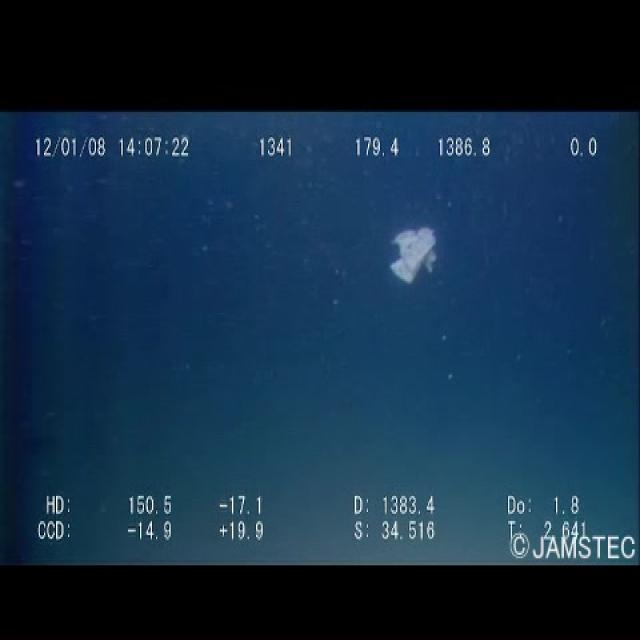plastic: (384, 220, 444, 288)
